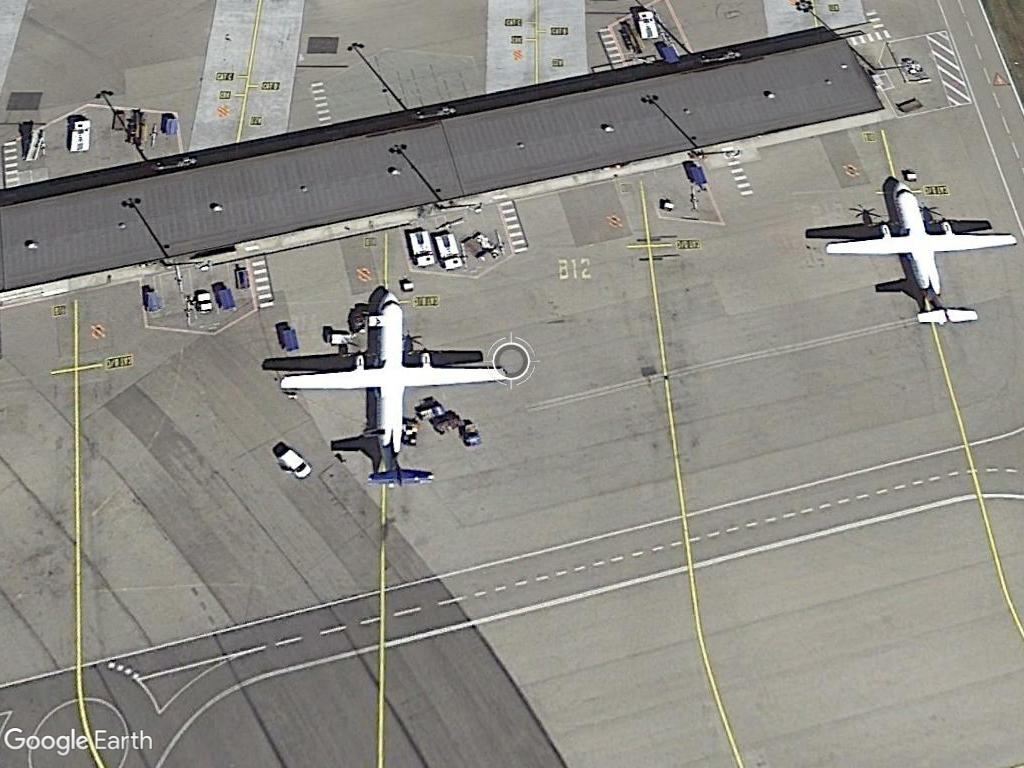propeller: (271, 286, 510, 490), (821, 177, 1018, 331)
stairtruck: (15, 115, 51, 166)
